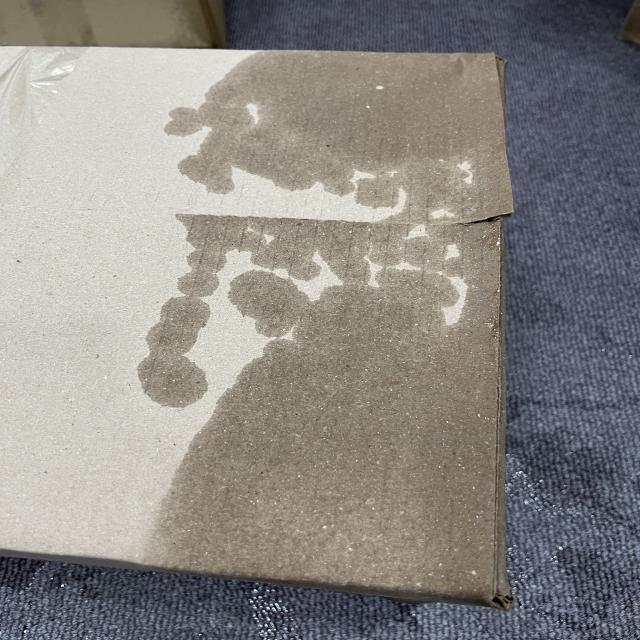wet: (160, 48, 513, 578)
